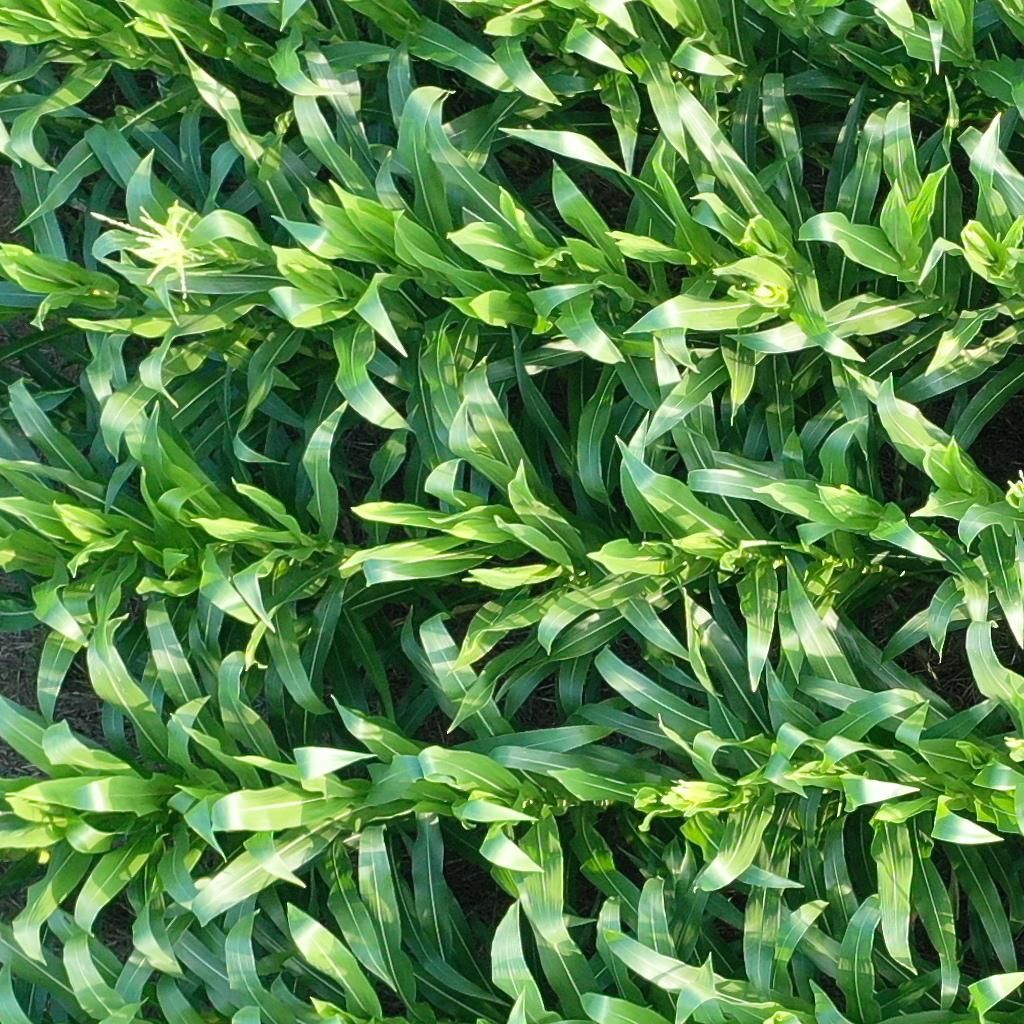Tassel: (84, 205, 215, 300), (658, 774, 731, 815), (1005, 464, 1024, 517), (1003, 731, 1024, 768)
